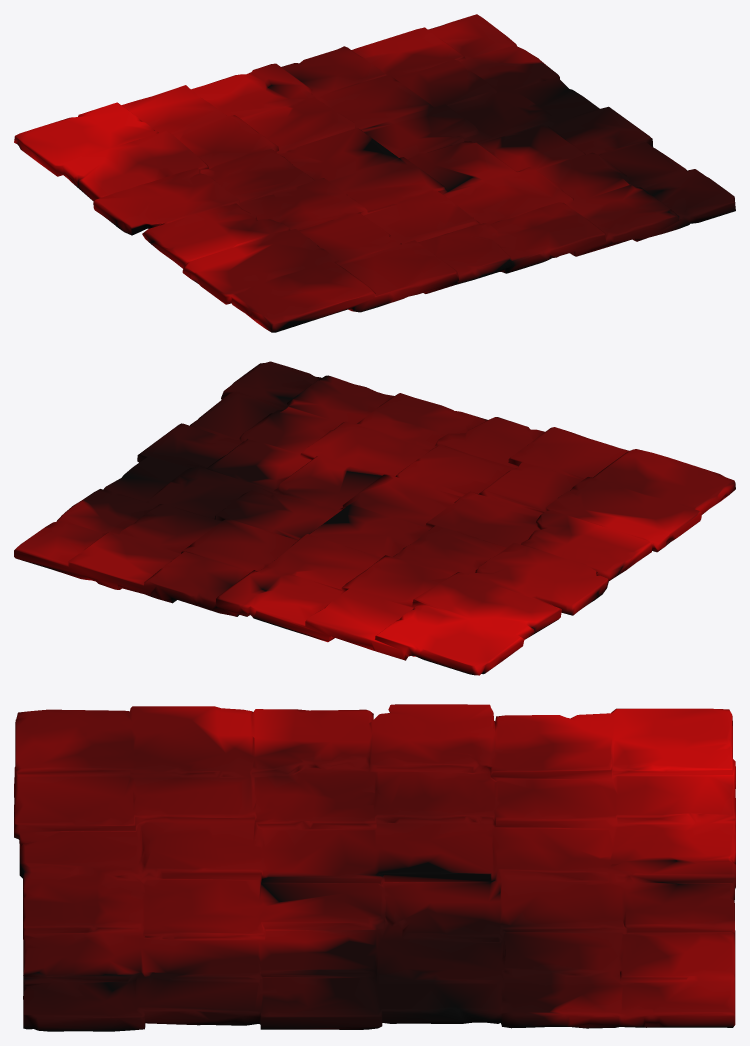
The model's file is SM_RoofTile_Flat_FullXFull1.fbx.
3 renders of one model, top to bottom at view 1: azimuth 30°, elevation 25°; view 2: azimuth 150°, elevation 25°; view 3: azimuth 270°, elevation 25°, orthographic. The views are drawn at different scales.
Parts seen in each view (by area): view 1: SM_RoofTile_Flat_FullXFull1_LOD0; view 2: SM_RoofTile_Flat_FullXFull1_LOD0; view 3: SM_RoofTile_Flat_FullXFull1_LOD0.
Boxes of the visible parts, box(x1,y1,x2,y2) form: SM_RoofTile_Flat_FullXFull1_LOD0: box(14, 14, 735, 332); SM_RoofTile_Flat_FullXFull1_LOD0: box(14, 361, 735, 675); SM_RoofTile_Flat_FullXFull1_LOD0: box(14, 704, 735, 1031).
Size of the model in its own units: 210 by 198 by 9.84.
